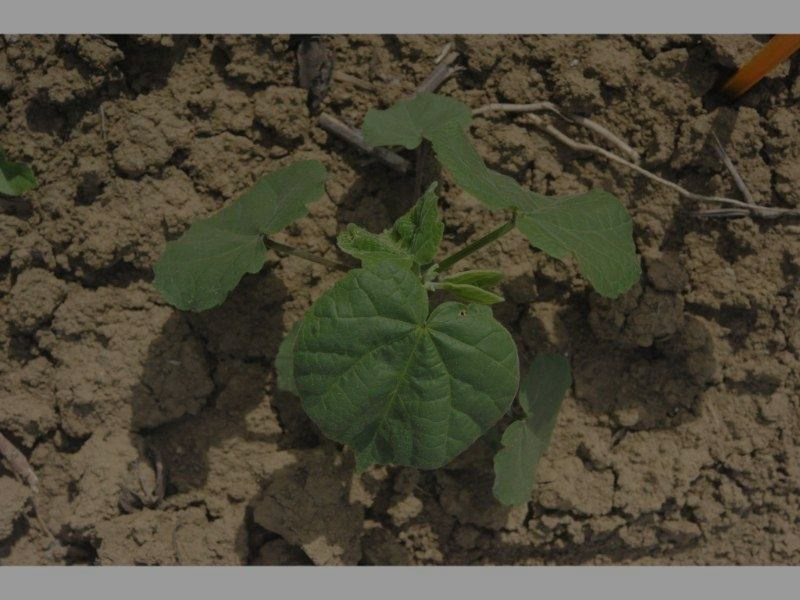velvet: (150, 92, 643, 506)
